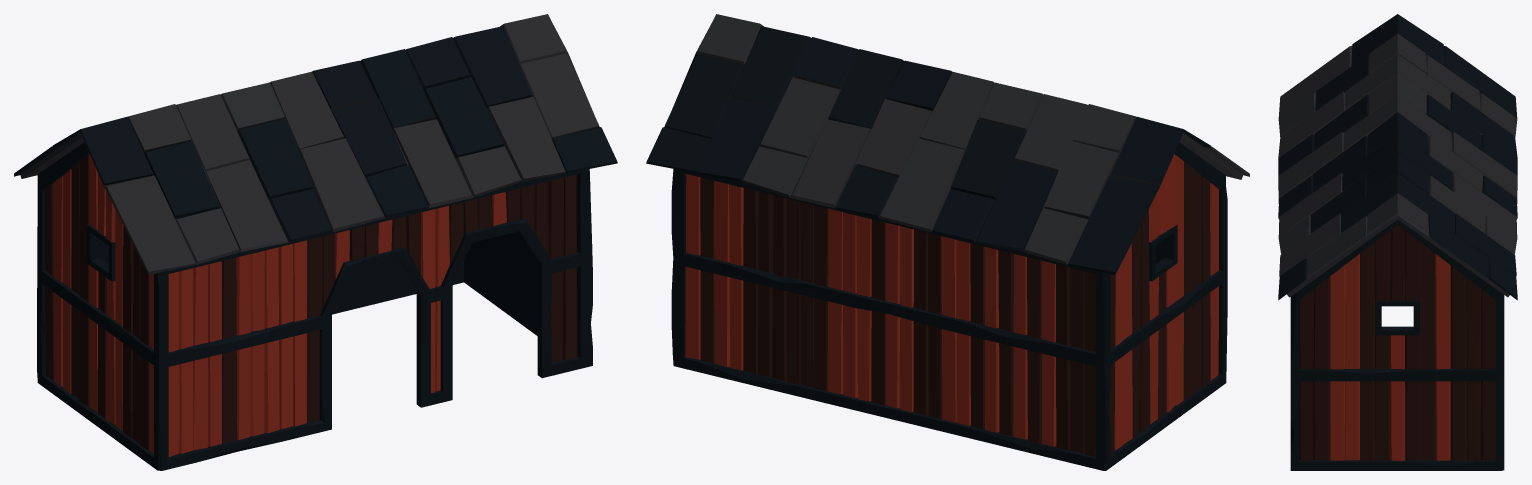
File: Shed_1a.fbx
3 renders of one model, left to right at view 1: azimuth 30°, elevation 25°; view 2: azimuth 150°, elevation 25°; view 3: azimuth 270°, elevation 25°, orthographic. The views are drawn at different scales.
Parts seen in each view (by area): view 1: Shed_1a; view 2: Shed_1a; view 3: Shed_1a.
Part boxes in pixels (box(x1,y1,x2,y2)): Shed_1a: box(14, 14, 617, 470); Shed_1a: box(646, 14, 1249, 470); Shed_1a: box(1278, 14, 1517, 470).
Size of the model in its own units: 368 by 226 by 185.
